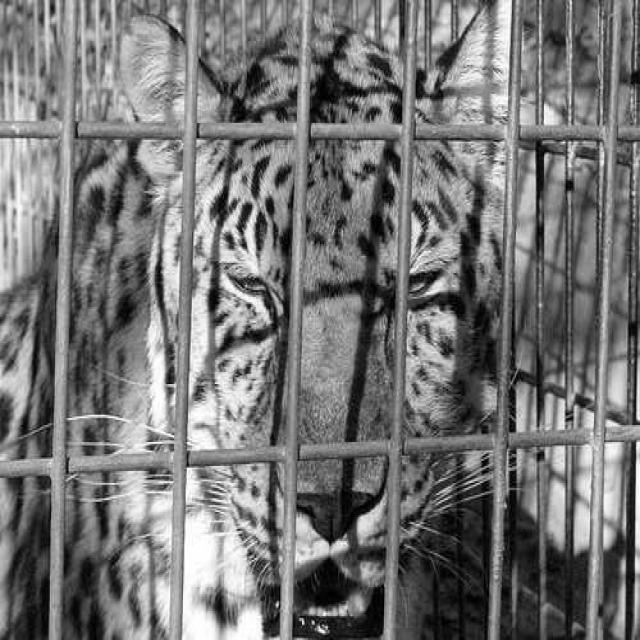Leopard: (56, 40, 511, 585)
